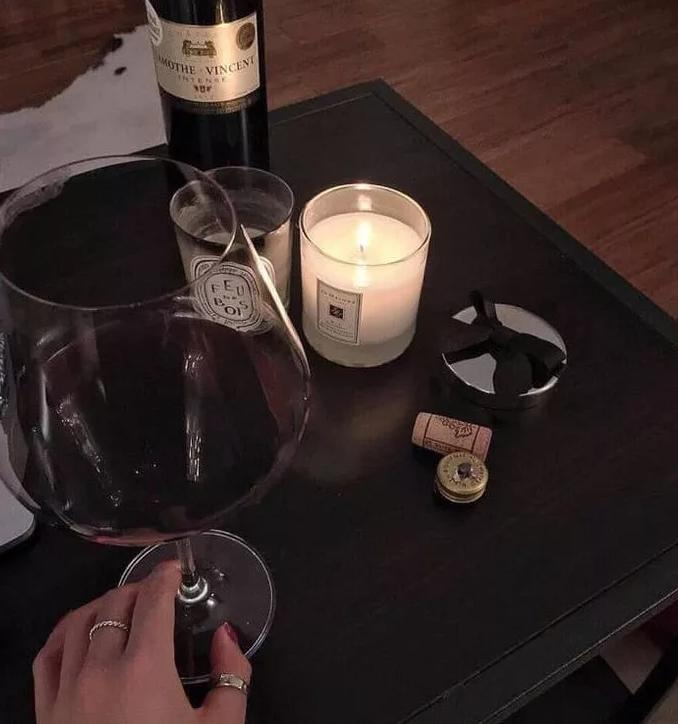wine bottle: (145, 0, 271, 208)
wine label: (146, 0, 262, 115)
